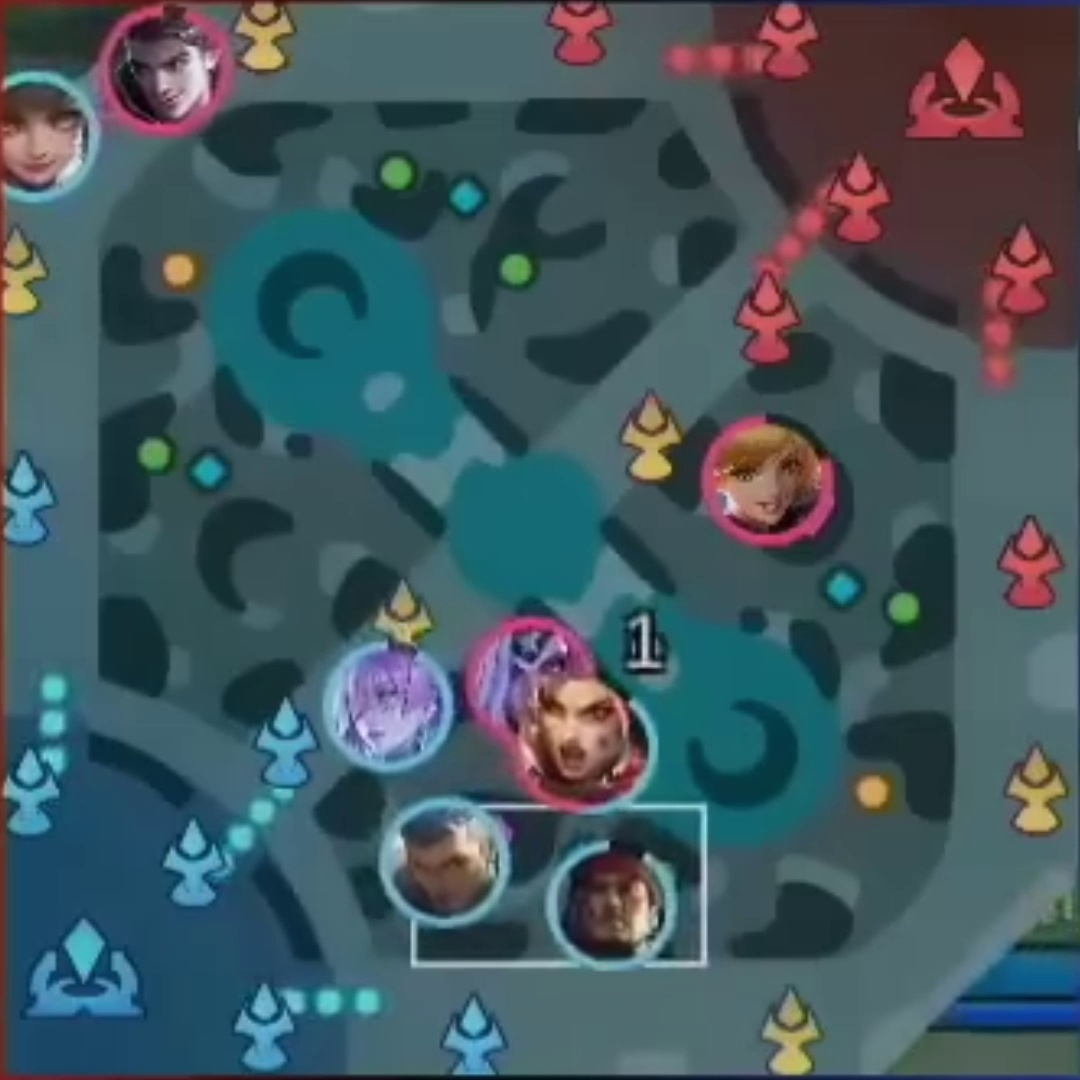Claude: (107, 18, 218, 124)
Fanny: (706, 416, 819, 530)
Fredrinn: (386, 808, 500, 920)
Lapu-Lapu: (559, 853, 675, 956)
Masha: (532, 684, 621, 778)
Novaria: (334, 650, 441, 761)
Valentina: (484, 622, 570, 699)
Wanwan: (2, 78, 92, 195)
